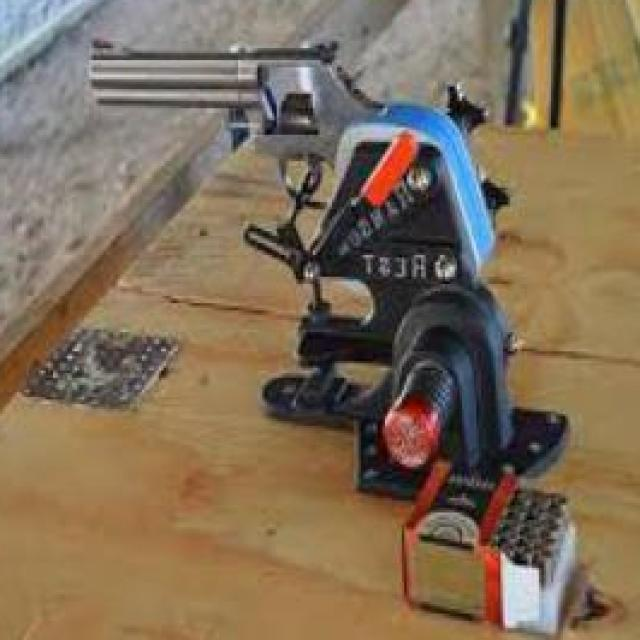pistol: (77, 41, 464, 232)
